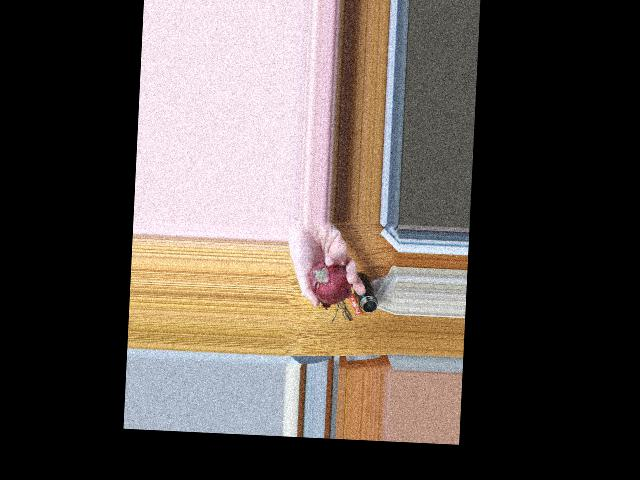onion: (307, 261, 348, 300)
